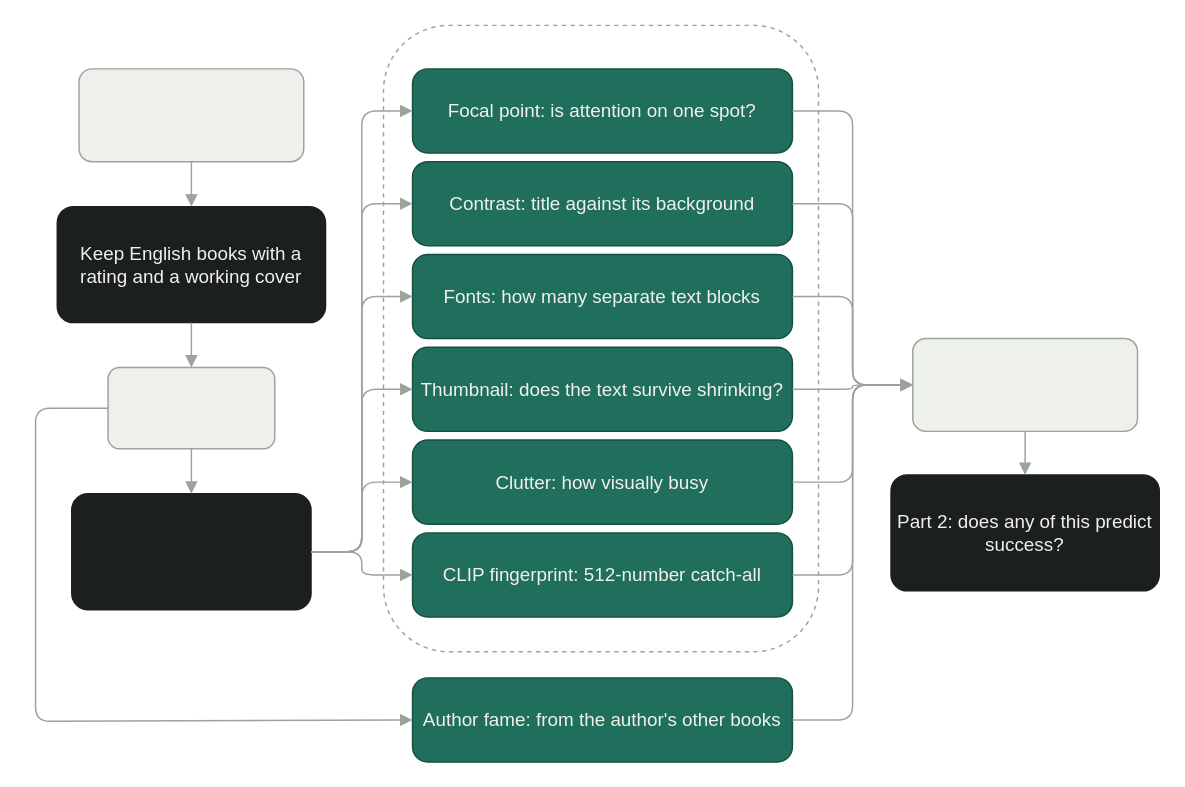
The diagram is 1185 pixels wide and 787 high, and some of its shapes have lost their labels. Here are the shapes that lost their labels. From the top down, the box of each, then its label:
(78, 67, 304, 162): 52,478 books from a Goodreads list
(382, 24, 819, 652): one number each, computed per cover
(911, 337, 1138, 431): 42,344 rows of numbers, one per book
(107, 366, 275, 449): 42,345 books
(70, 492, 311, 610): Download covers, resize every one to 480px tall
